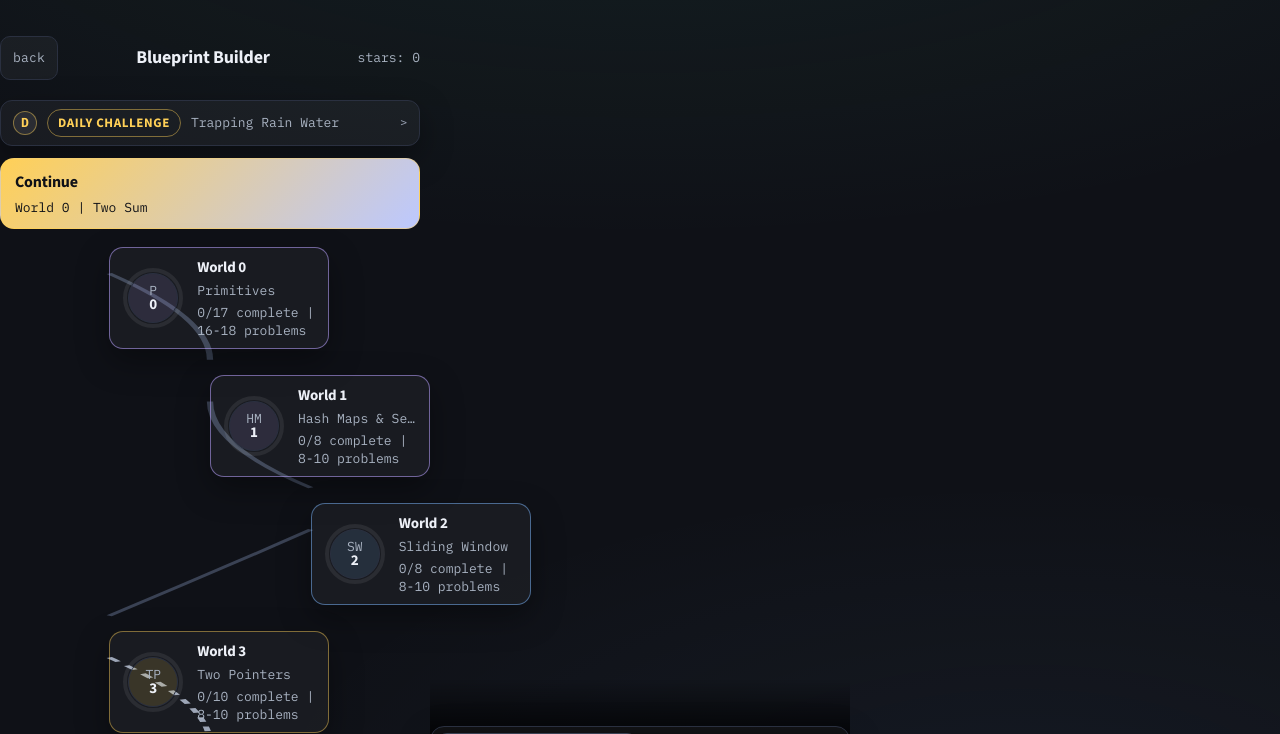
Test: screens/BlueprintScreen › opens a challenge and can navigate back to world list
Click the button "Continue World 0 | Two Sum".
click(46, 182)  # box [0,158,420,229]
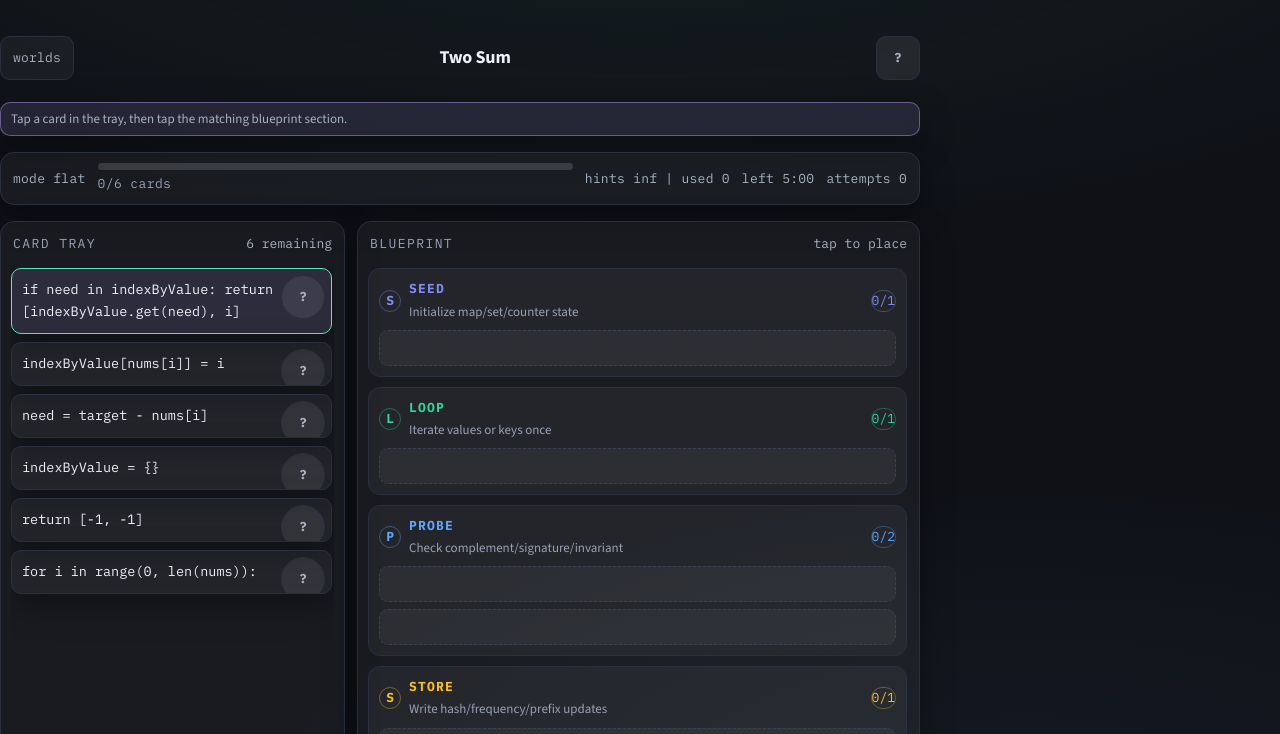
Expected: the text with test id "blueprint-solve-mode" reads "mode flat", [13,169,86,189]
Expected: the progress indicator named "blueprint card placement progress" is shown, [98,163,573,170]
Click the button "worlds".
click(37, 58)  # box [0,36,74,80]
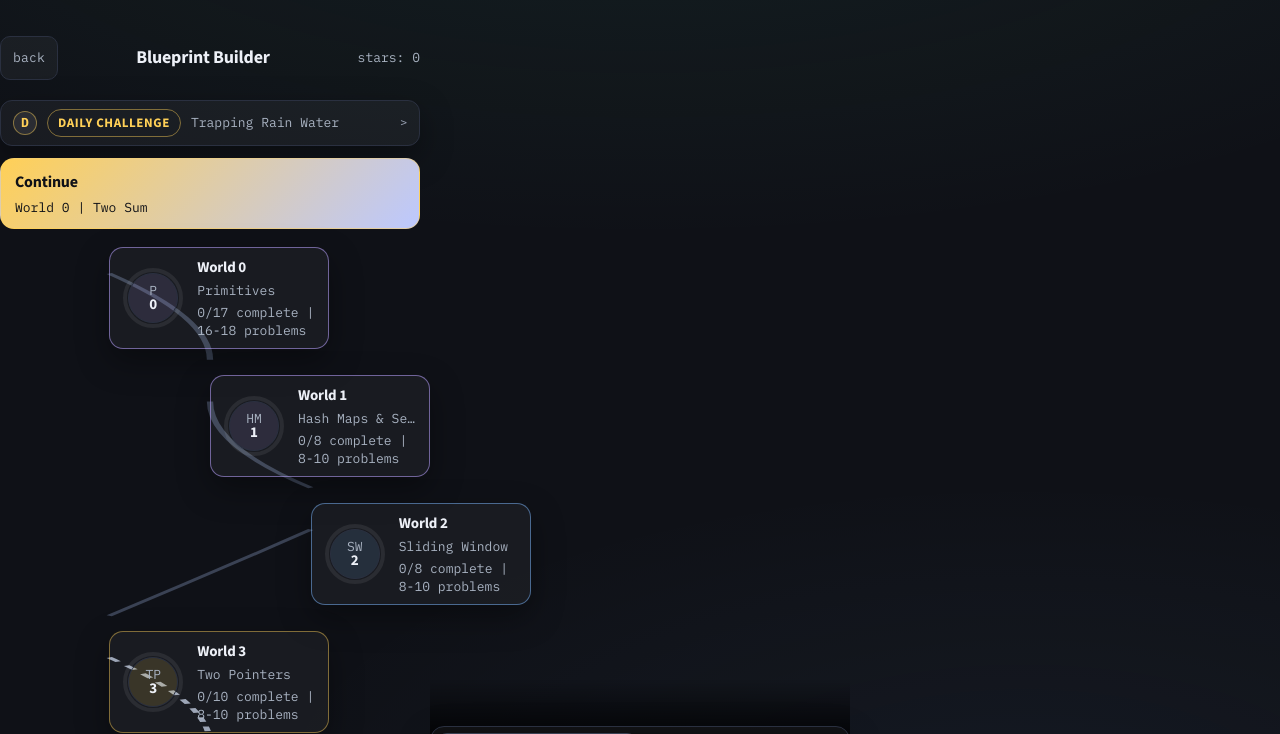
Expected: the text "Hash Maps & Sets" is shown, [298,410,419,429]
